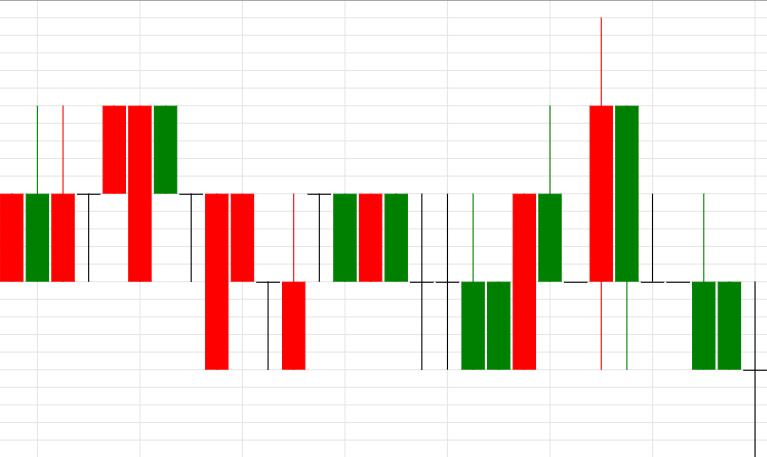bullish_engulfing_rise: (384, 194, 536, 371)
